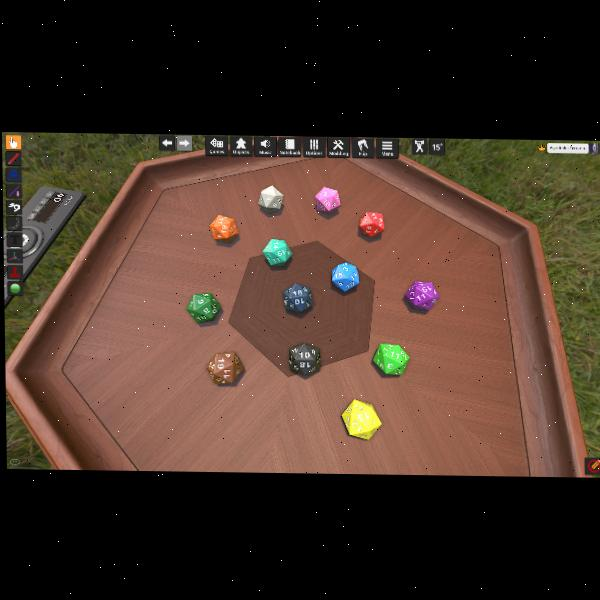d20: (341, 398, 381, 439), (204, 350, 241, 384), (372, 342, 408, 375), (288, 341, 320, 374), (282, 283, 313, 314), (187, 292, 218, 322), (410, 281, 441, 311), (261, 237, 292, 265), (330, 262, 358, 292), (210, 215, 237, 242), (313, 186, 339, 214), (258, 185, 284, 213), (360, 212, 385, 237)
